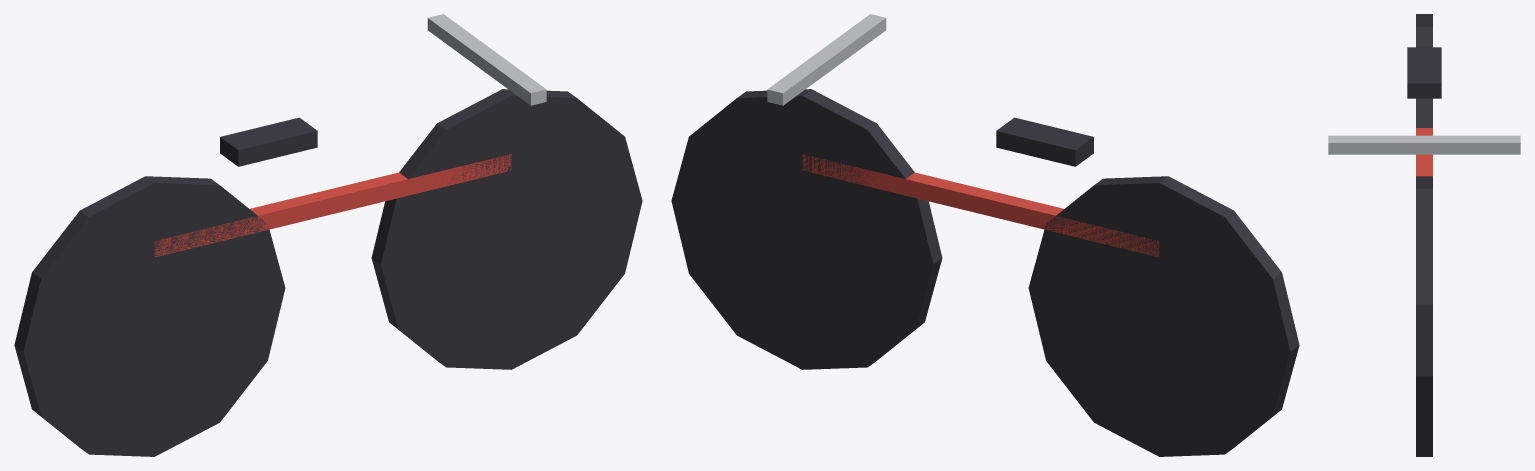
File: sm_product_bicycle.glb
3 views of the same model, side by side, from view 1: azimuth 30°, elevation 25°; view 2: azimuth 150°, elevation 25°; view 3: azimuth 270°, elevation 25° (orthographic). The views are drawn at different scales.
Visible parts, largest first — view 1: bicycle_0, bicycle_1, bicycle_2, bicycle_4, bicycle_3; view 2: bicycle_0, bicycle_1, bicycle_2, bicycle_4, bicycle_3; view 3: bicycle_1, bicycle_4, bicycle_3, bicycle_0, bicycle_2.
Part boxes in pixels (x1,y1,x2,y2): bicycle_0: (14,176,285,456); bicycle_1: (371,89,642,369); bicycle_2: (154,154,511,257); bicycle_4: (427,14,546,105); bicycle_3: (220,117,317,166); bicycle_0: (1028,176,1299,456); bicycle_1: (671,89,942,369); bicycle_2: (802,154,1159,257); bicycle_4: (767,14,886,105); bicycle_3: (996,117,1093,166); bicycle_1: (1416,176,1432,456); bicycle_4: (1328,135,1520,154); bicycle_3: (1407,47,1441,98); bicycle_0: (1416,14,1432,127); bicycle_2: (1416,128,1432,176).
Size of what is drawn, in the model's own units: 1.56 by 0.765 by 0.45.
